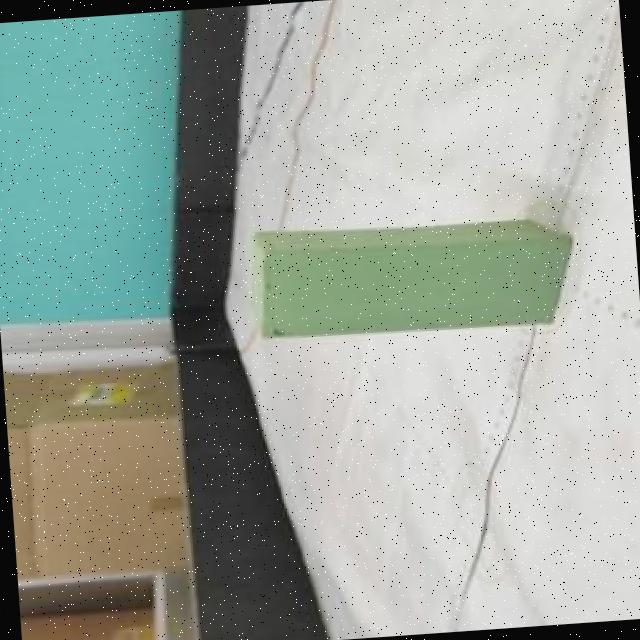greenbox: (246, 208, 580, 344)
